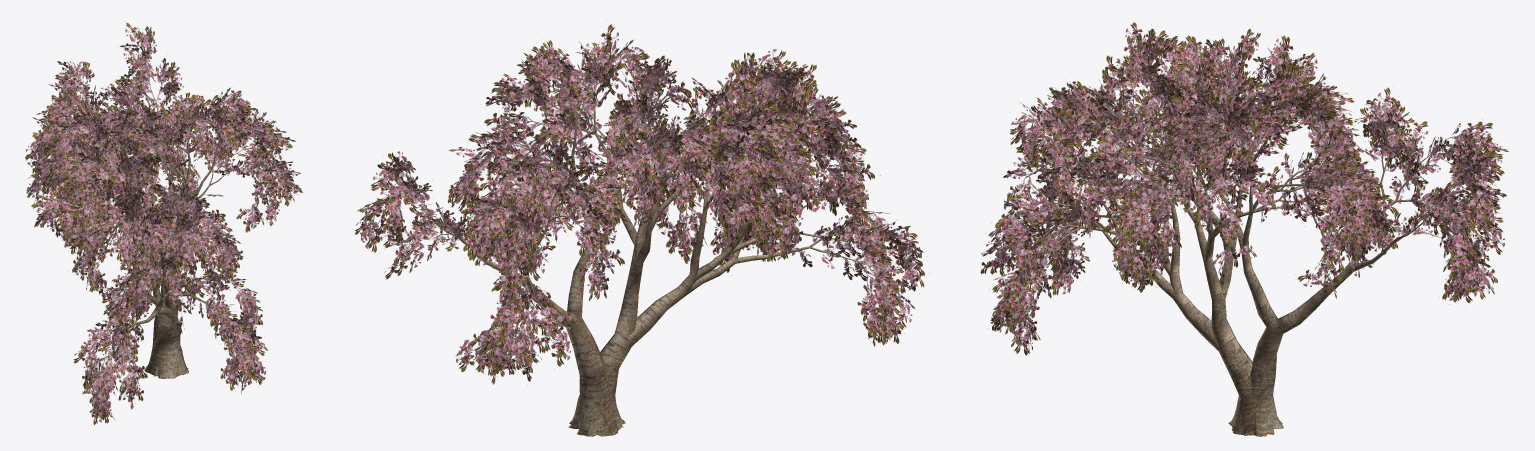
Rendered from sakura.glb.
3 views of the same model, side by side, from view 1: azimuth 30°, elevation 25°; view 2: azimuth 150°, elevation 25°; view 3: azimuth 270°, elevation 25° (orthographic). The views are drawn at different scales.
Parts seen in each view (by area): view 1: Tree; view 2: Tree; view 3: Tree.
Part boxes in pixels (<box>): Tree: <box>25,22,302,424</box>; Tree: <box>355,21,929,436</box>; Tree: <box>980,19,1508,436</box>.
Bounding box in the file's own units: 2.11 × 2.05 × 2.75.
Materials: 2 (2 with a texture image).
